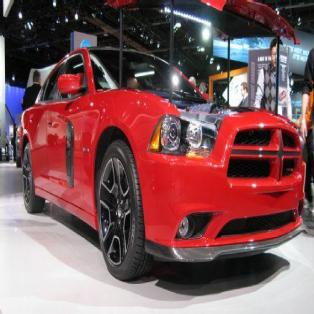Auto: (19, 45, 305, 282)
